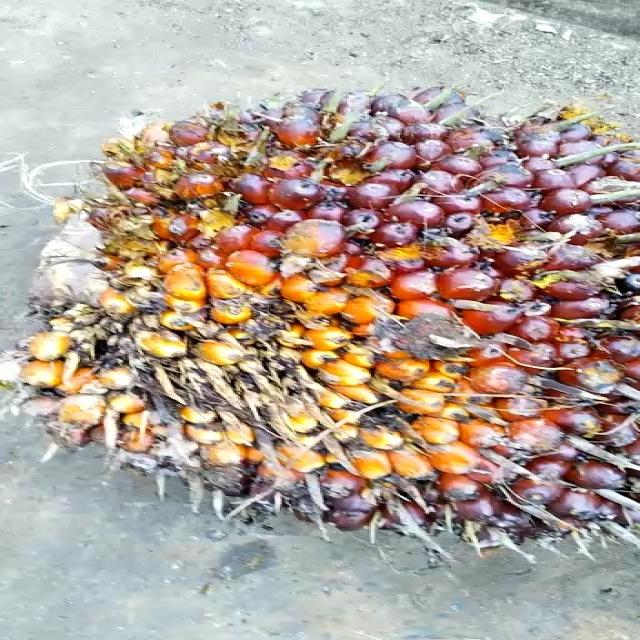palm oil: (18, 87, 640, 552)
